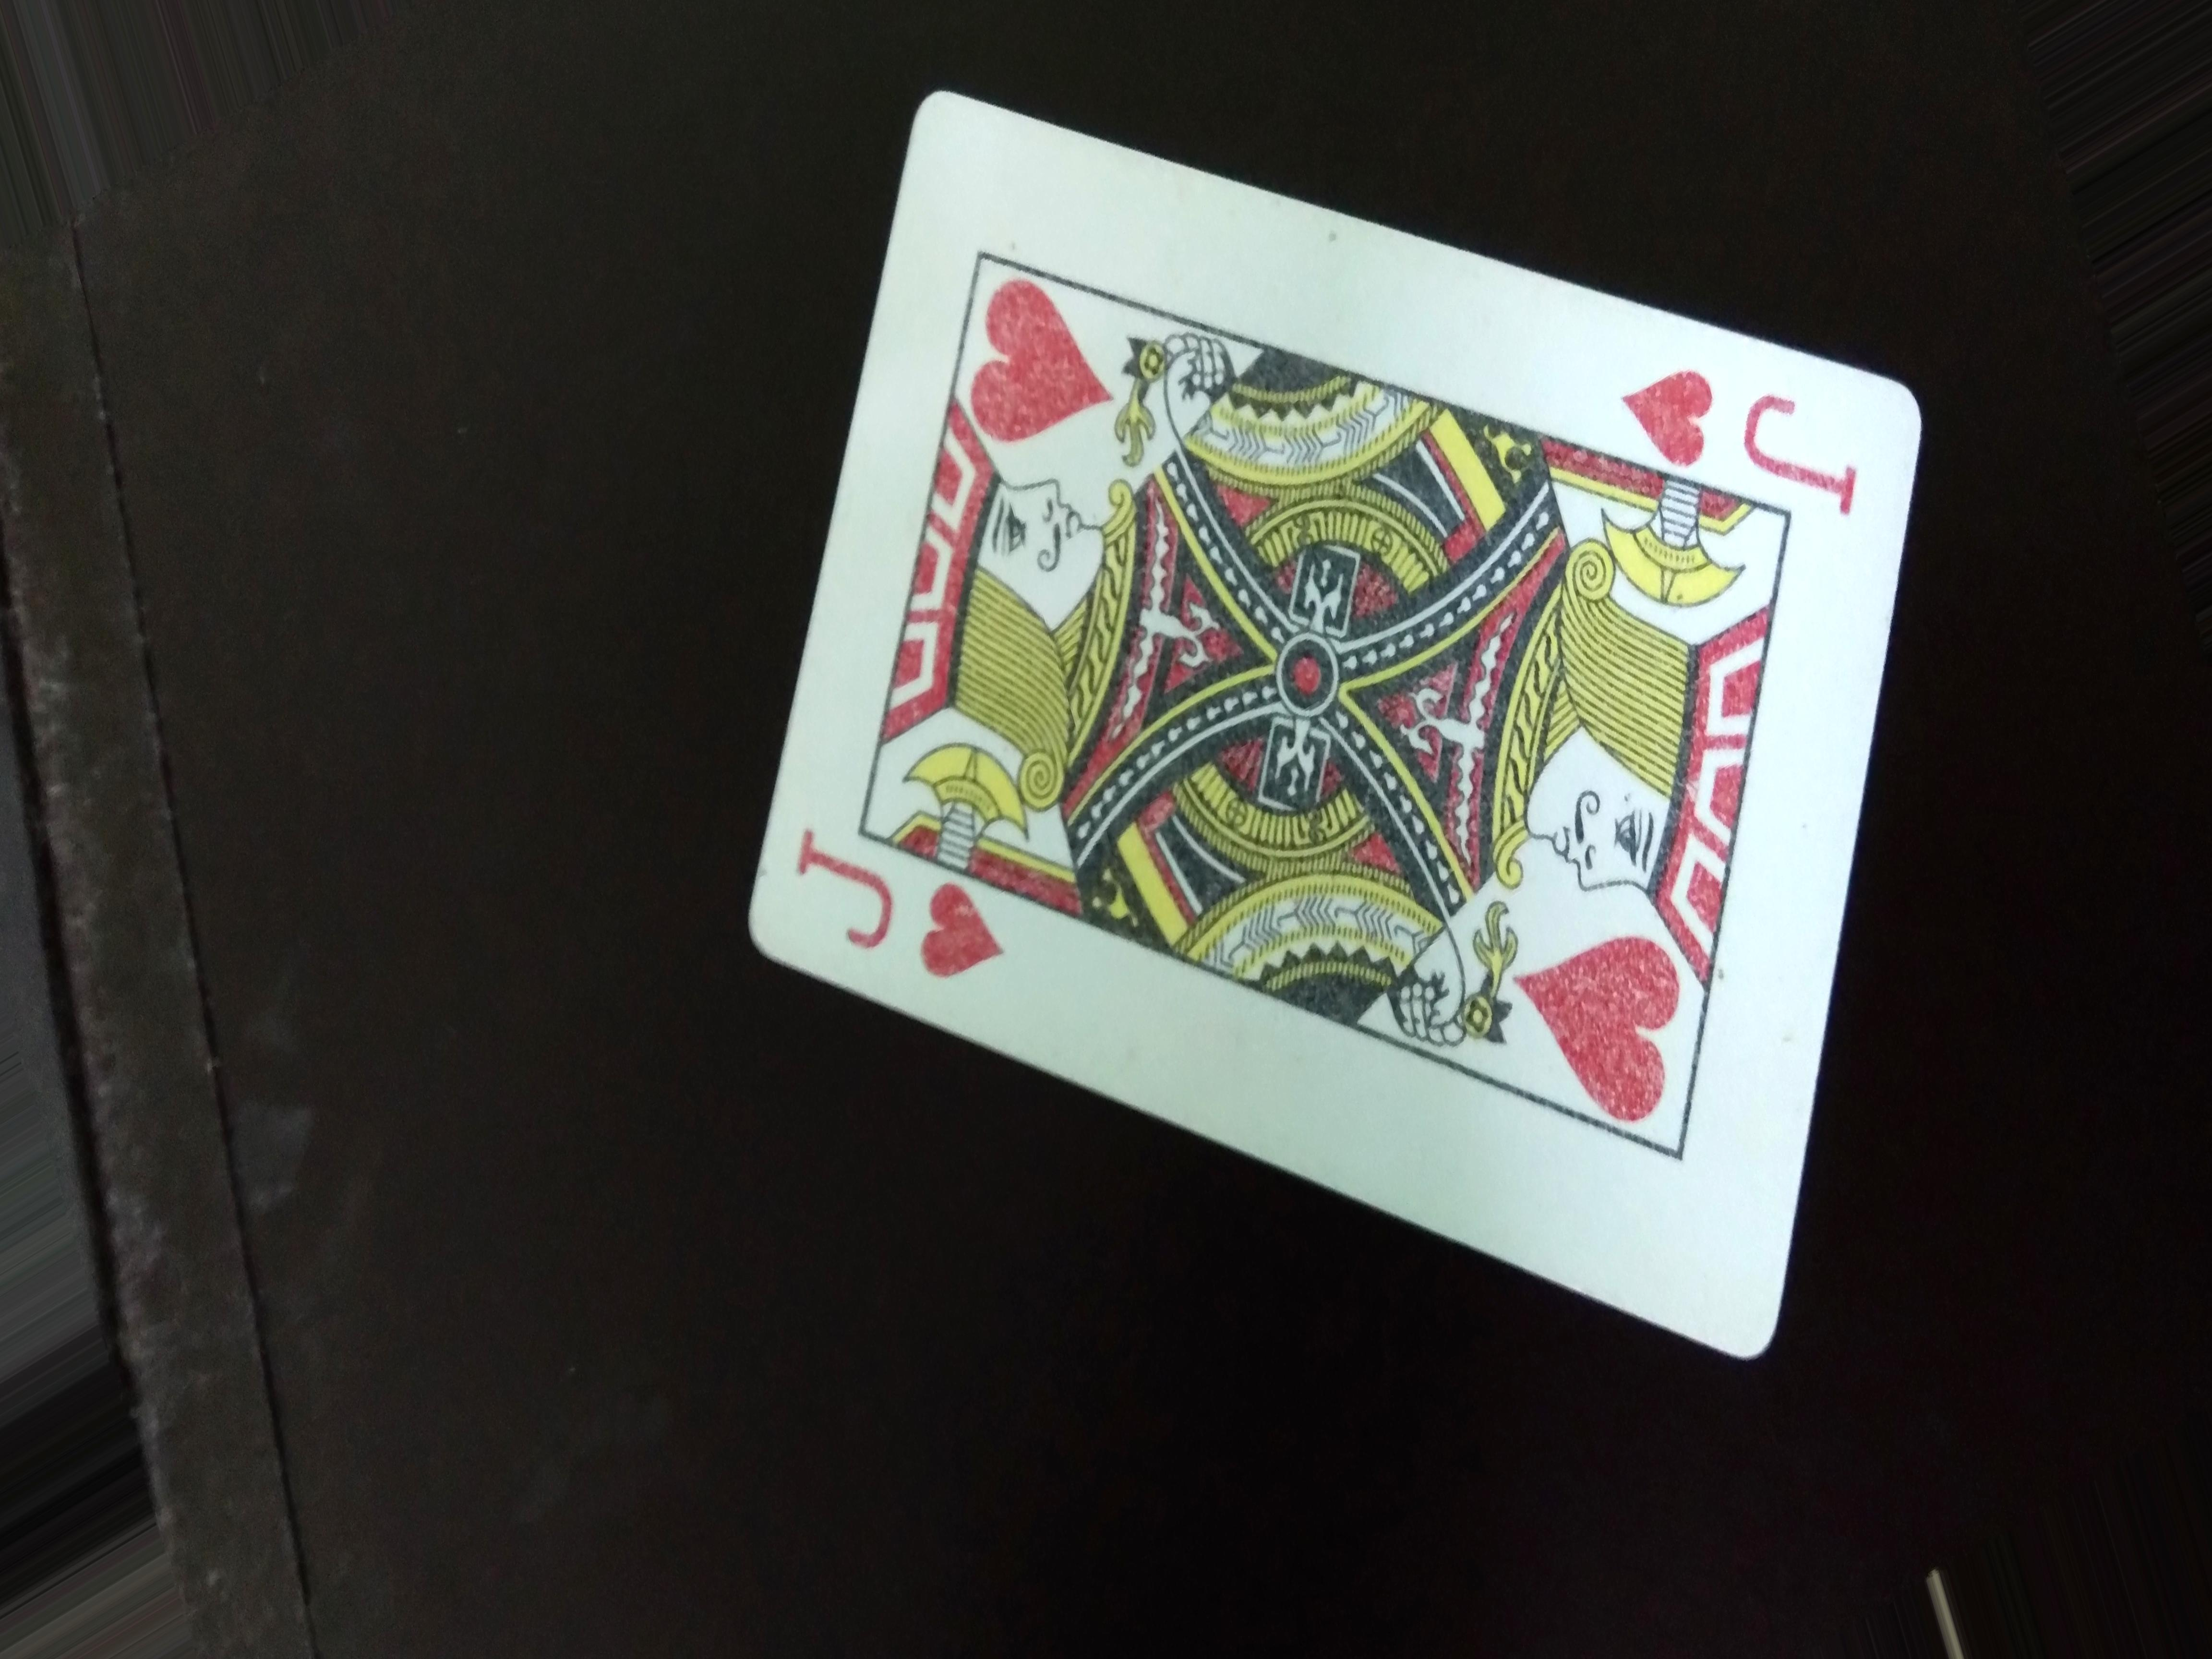JH: (1588, 345, 1881, 519)
